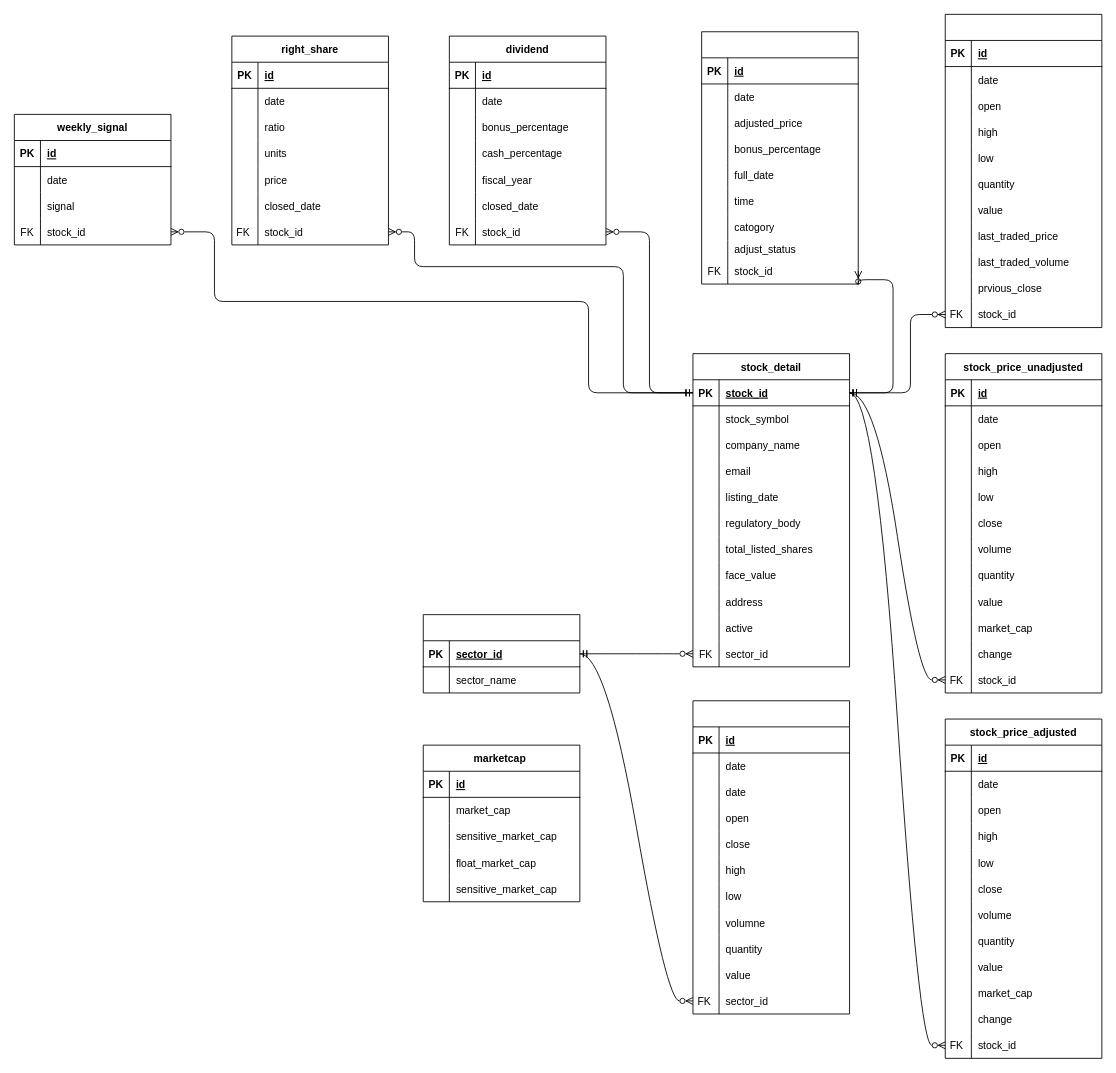
This 1116x1073 diagram has some shape labels left out. Here are the shapes that lost their labels. From the top down, the box of each, then its label:
(701, 31, 858, 284): adjust_news
(944, 13, 1102, 328): live_stock_price
(422, 614, 580, 693): sector_detail
(692, 700, 850, 1014): sector_price
